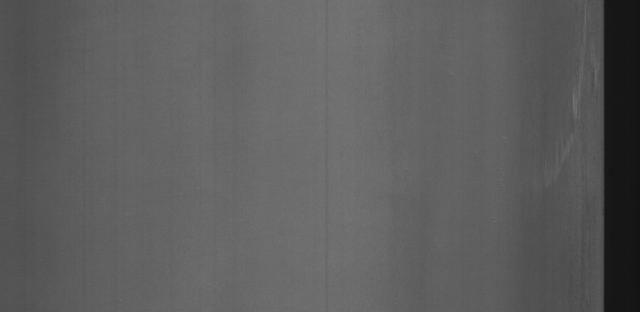silk_spot: (536, 27, 599, 198)
